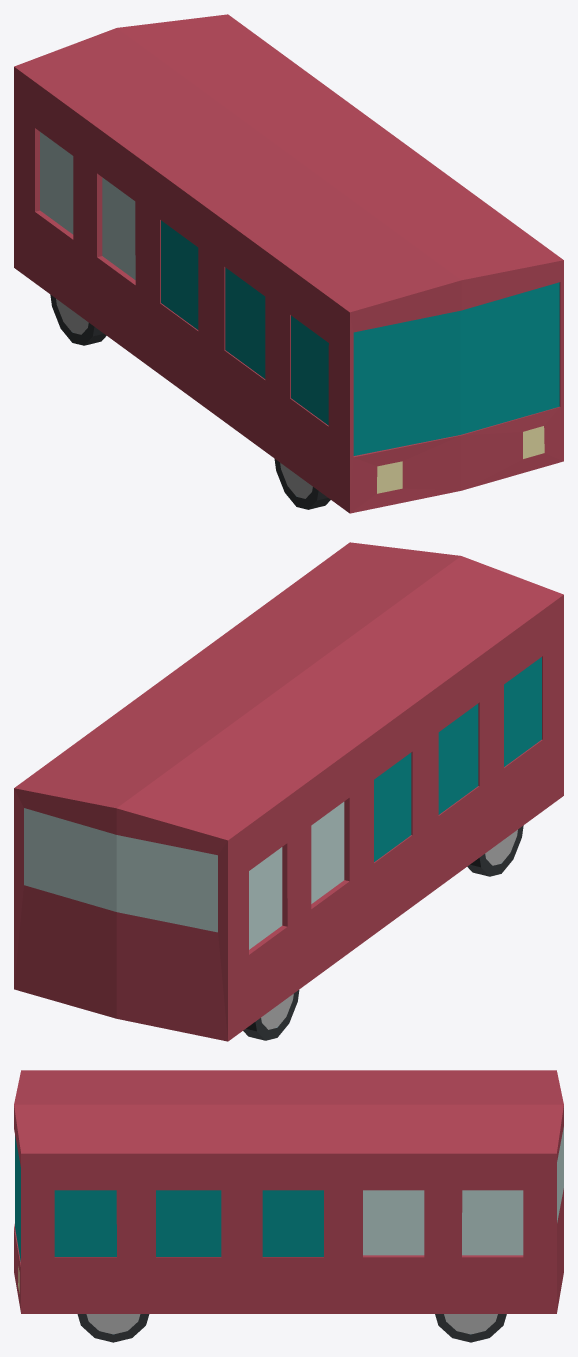
Rendered from CenaFinal.FBX.
3 renders of one model, top to bottom at view 1: azimuth 30°, elevation 25°; view 2: azimuth 150°, elevation 25°; view 3: azimuth 270°, elevation 25°, orthographic. The views are drawn at different scales.
Parts seen in each view (by area): view 1: OnibusFinal, Vidro; view 2: OnibusFinal, Vidro; view 3: OnibusFinal, Vidro.
Boxes of the visible parts, x1,y1,x2,y2 form: OnibusFinal: (14,14,563,513); Vidro: (161,220,559,455); OnibusFinal: (14,542,563,1041); Vidro: (374,657,541,861); OnibusFinal: (14,1070,563,1342); Vidro: (15,1135,323,1261).
Size of the model in its own units: 78.2 by 86.28 by 218.
